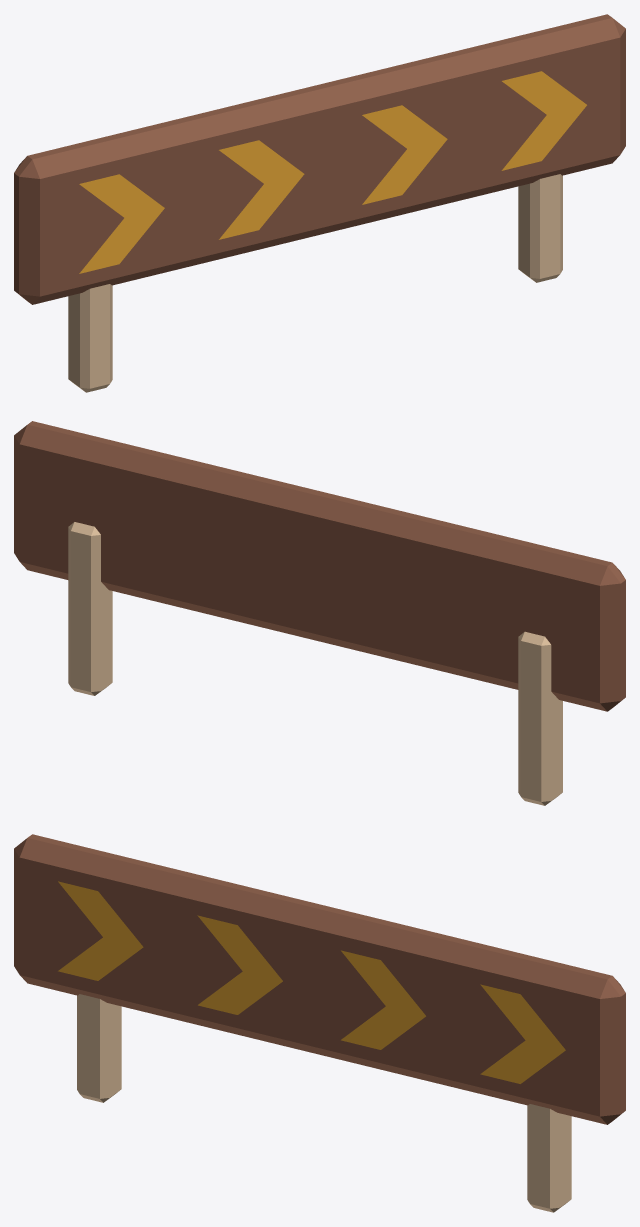
The model's file is Chevrons.fbx.
3 renders of one model, top to bottom at view 1: azimuth 30°, elevation 25°; view 2: azimuth 150°, elevation 25°; view 3: azimuth 330°, elevation 25°, orthographic.
Visible parts, largest first — view 1: Chevrons; view 2: Chevrons; view 3: Chevrons.
Part boxes in pixels (x1,y1,x2,y2): Chevrons: (14,14,625,392); Chevrons: (14,421,625,805); Chevrons: (14,834,625,1212).
Bounding box in the file's own units: 2.4 × 0.935 × 0.168.
